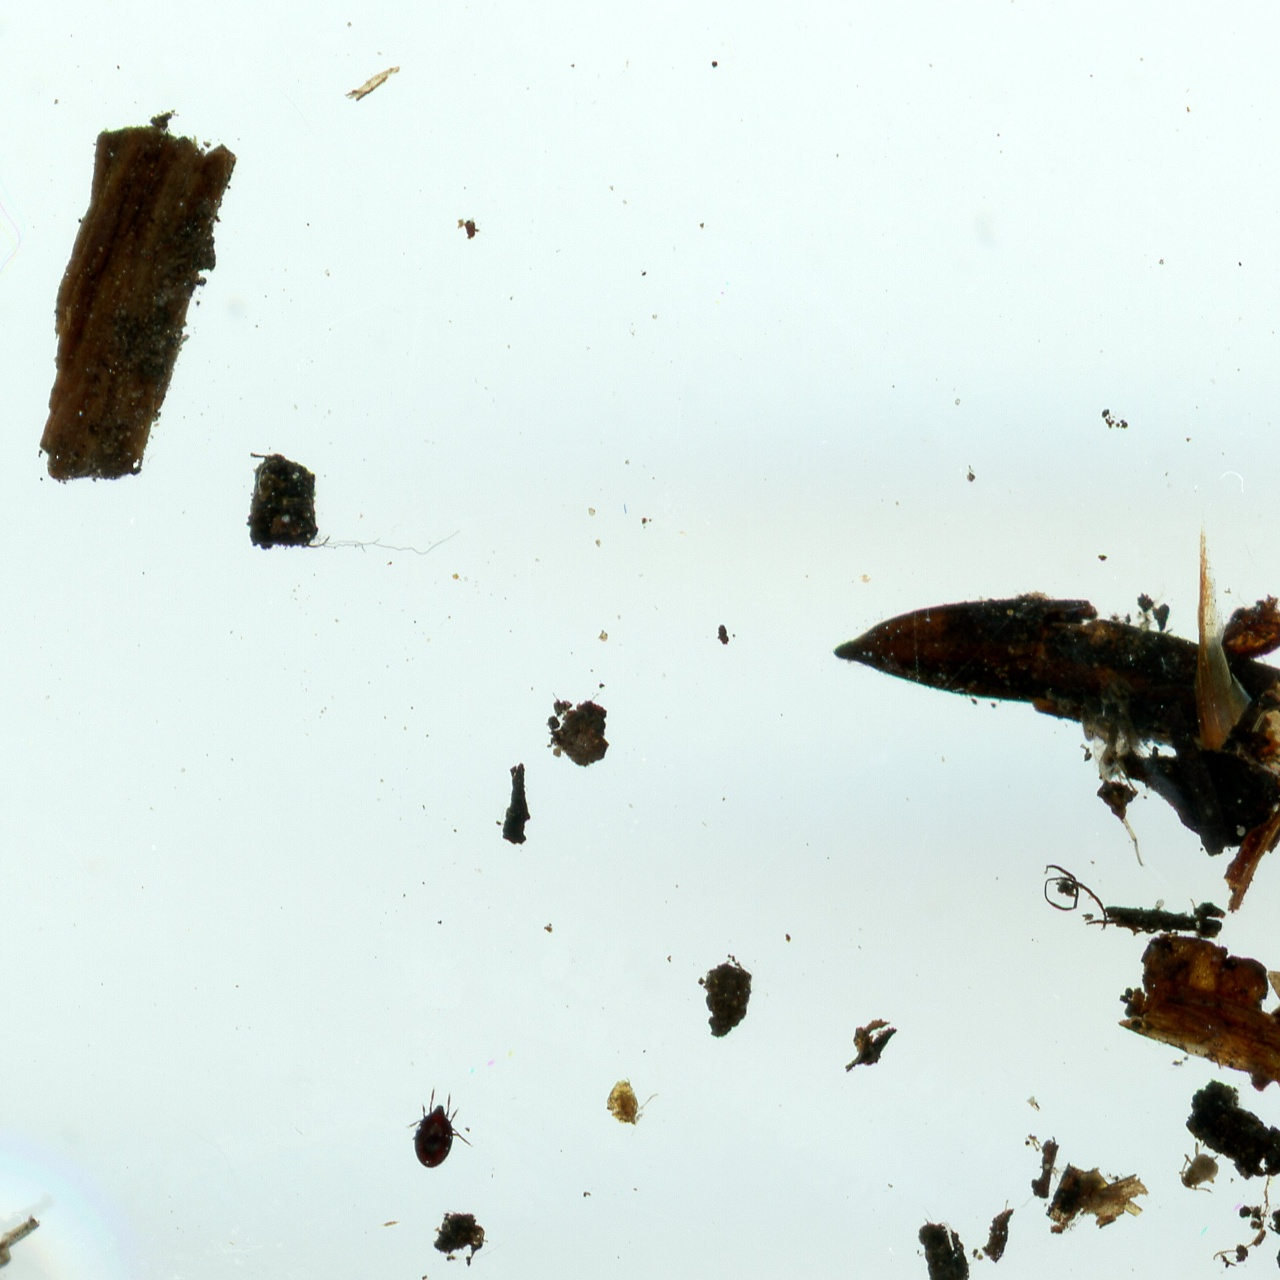arthropod: (0, 1083, 394, 1280), (402, 1083, 476, 1176), (1176, 1139, 1221, 1197)
